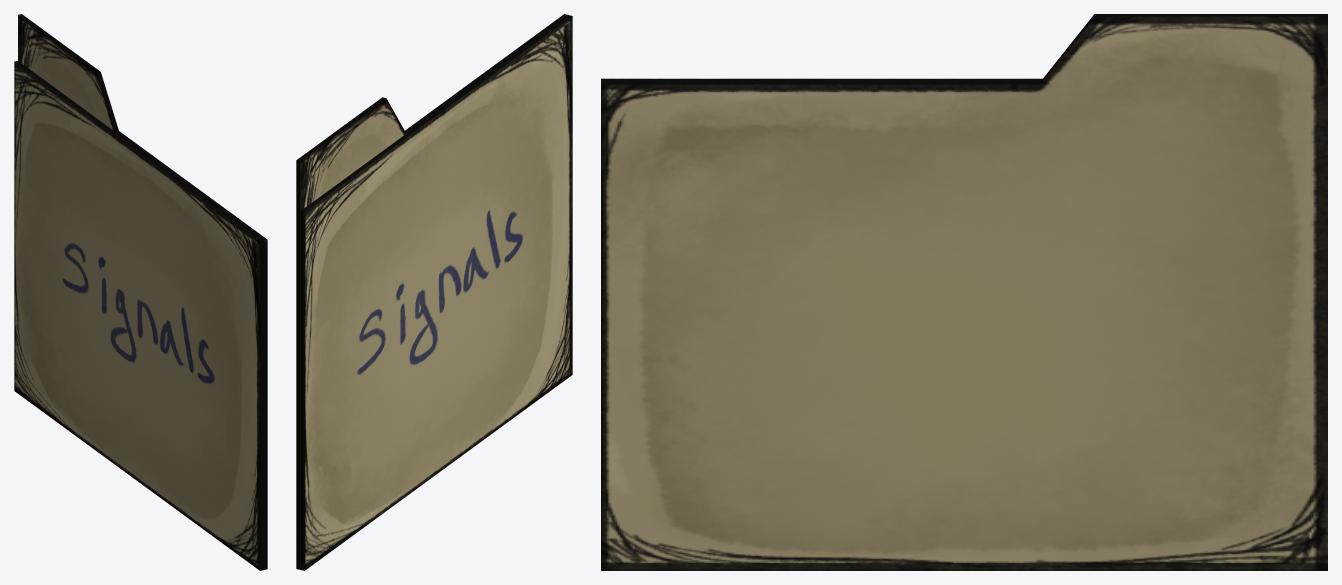
Rendered from folder_zero.fbx.
The picture shows the model from 3 angles, left to right: view 1: azimuth 30°, elevation 25°; view 2: azimuth 150°, elevation 25°; view 3: azimuth 270°, elevation 25°; orthographic projection. The views are drawn at different scales.
Parts seen in each view (by area): view 1: folder_front, folder_zero; view 2: folder_front, folder_zero; view 3: folder_zero, folder_front.
Boxes of the visible parts, x1,y1,x2,y2 form: folder_front: (14, 60, 263, 570); folder_zero: (18, 14, 267, 569); folder_front: (300, 15, 572, 570); folder_zero: (296, 14, 567, 569); folder_zero: (601, 14, 1327, 570); folder_front: (601, 78, 1042, 81).
Size of the model in its own units: 1.13 by 53.74 by 63.85.
2 materials, 2 textured.
